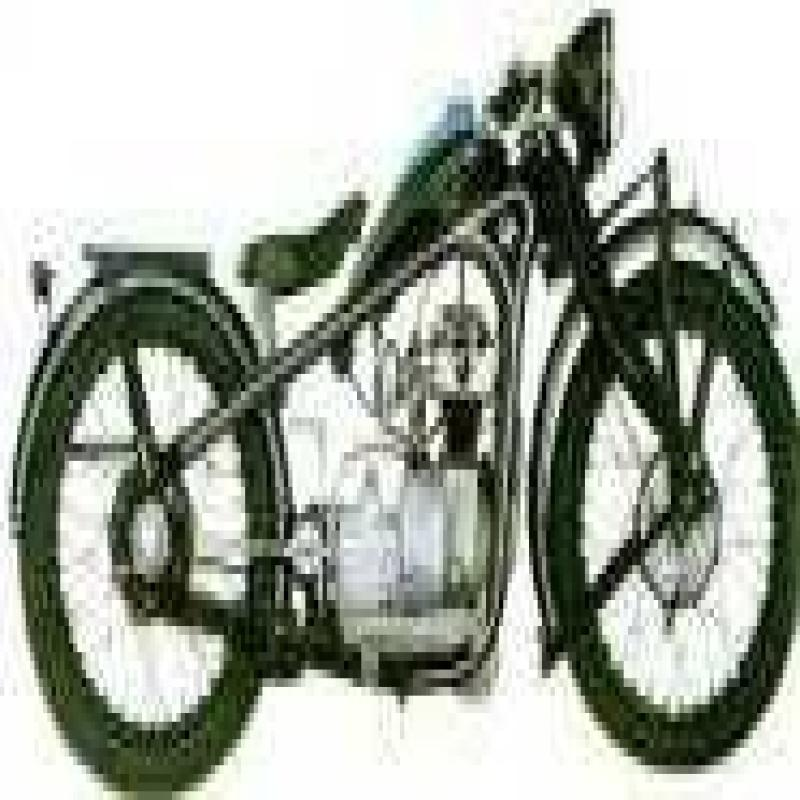bike: (19, 12, 798, 788)
